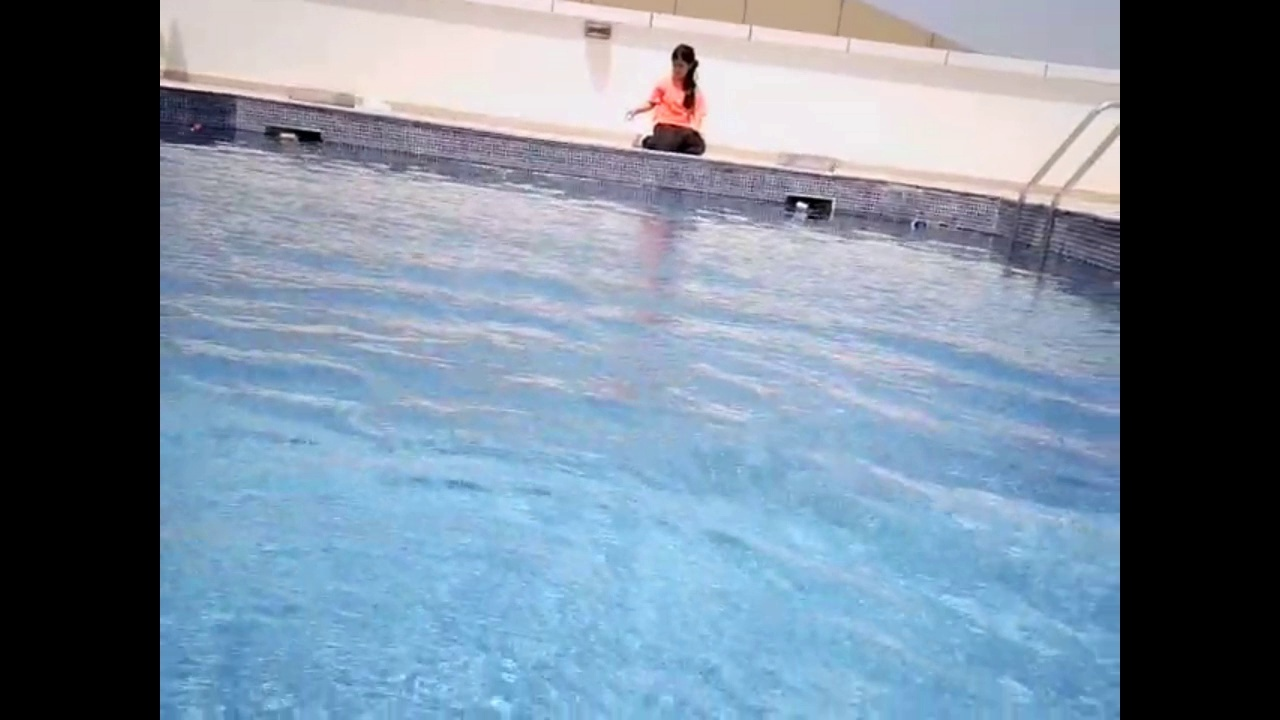debris: (274, 125, 299, 146), (905, 214, 929, 235), (790, 196, 813, 217), (181, 119, 205, 134)
